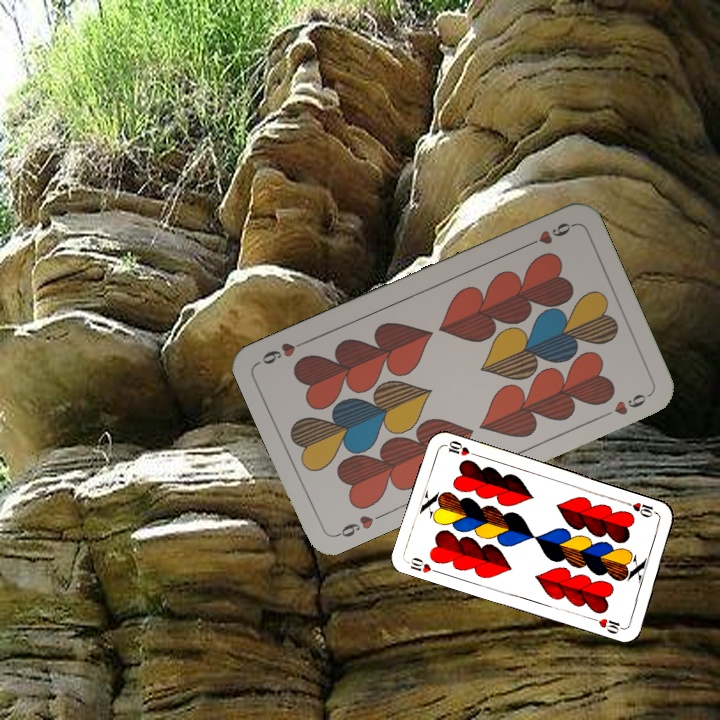H10: (404, 553, 444, 577), (621, 498, 661, 520)
H9: (521, 218, 577, 250), (331, 511, 376, 540)
